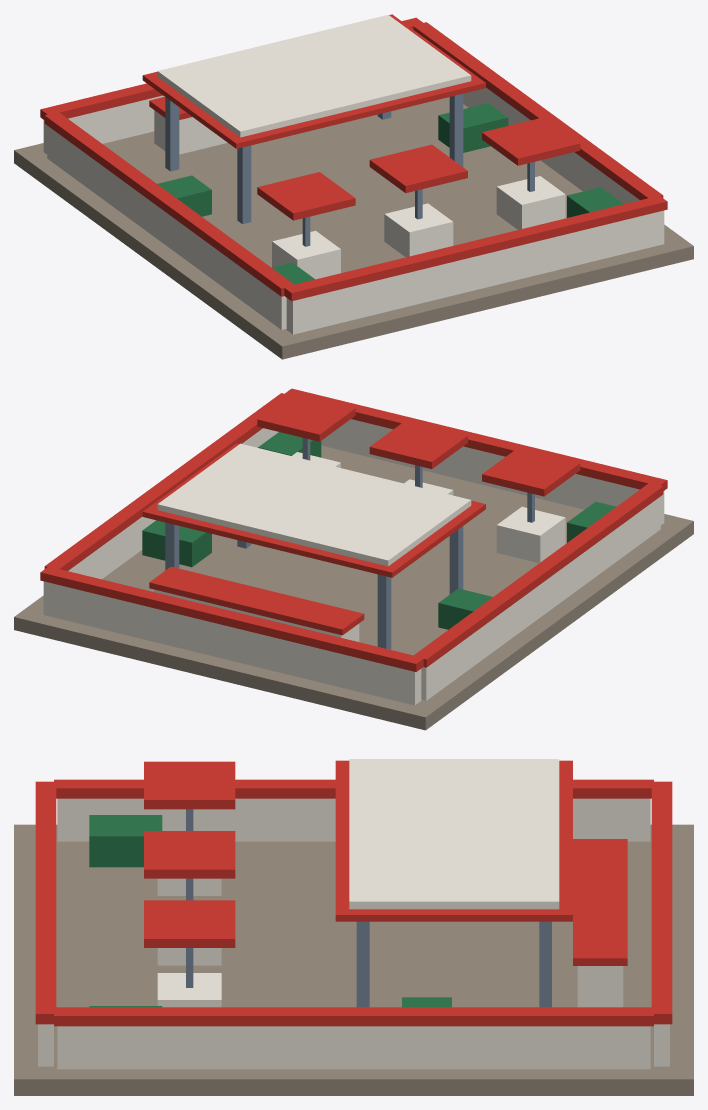
File: pitRoofTerrace.glb
The picture shows the model from 3 angles, top to bottom: view 1: azimuth 30°, elevation 25°; view 2: azimuth 150°, elevation 25°; view 3: azimuth 270°, elevation 25°; orthographic projection. The views are drawn at different scales.
Parts seen in each view (by area): view 1: pitRoofTerrace_white, pitRoofTerrace_concreteDark, pitRoofTerrace_red, pitRoofTerrace_leafDark, pitRoofTerrace_steel; view 2: pitRoofTerrace_white, pitRoofTerrace_concreteDark, pitRoofTerrace_red, pitRoofTerrace_leafDark, pitRoofTerrace_steel; view 3: pitRoofTerrace_concreteDark, pitRoofTerrace_white, pitRoofTerrace_red, pitRoofTerrace_leafDark, pitRoofTerrace_steel.
Part boxes in pixels (bbox=[...]): pitRoofTerrace_white: bbox=[43, 14, 664, 334]; pitRoofTerrace_concreteDark: bbox=[14, 97, 693, 359]; pitRoofTerrace_red: bbox=[40, 14, 667, 301]; pitRoofTerrace_leafDark: bbox=[157, 103, 623, 284]; pitRoofTerrace_steel: bbox=[165, 94, 534, 246]; pitRoofTerrace_white: bbox=[43, 419, 664, 705]; pitRoofTerrace_concreteDark: bbox=[14, 445, 693, 730]; pitRoofTerrace_red: bbox=[40, 388, 667, 671]; pitRoofTerrace_leafDark: bbox=[142, 432, 616, 629]; pitRoofTerrace_steel: bbox=[165, 438, 534, 649]; pitRoofTerrace_concreteDark: bbox=[14, 824, 693, 1095]; pitRoofTerrace_white: bbox=[38, 759, 669, 1069]; pitRoofTerrace_red: bbox=[35, 760, 672, 1026]; pitRoofTerrace_leafDark: bbox=[89, 815, 451, 1007]; pitRoofTerrace_steel: bbox=[186, 809, 551, 1007].
Size of the model in its own units: 13.2 by 3.34 by 14.9.
